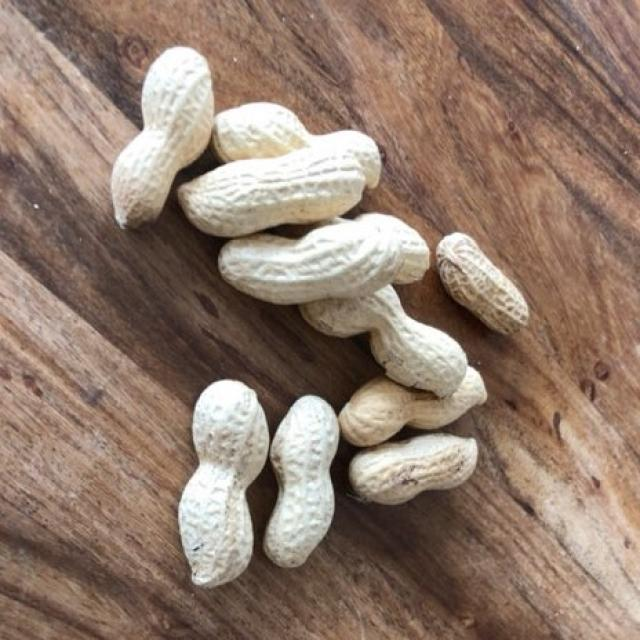peanut: (121, 68, 485, 530)
